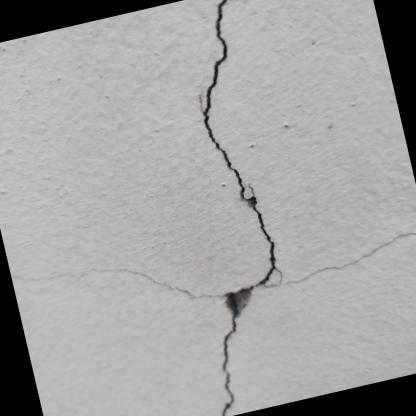crack: (83, 0, 416, 416), (10, 273, 91, 281)
